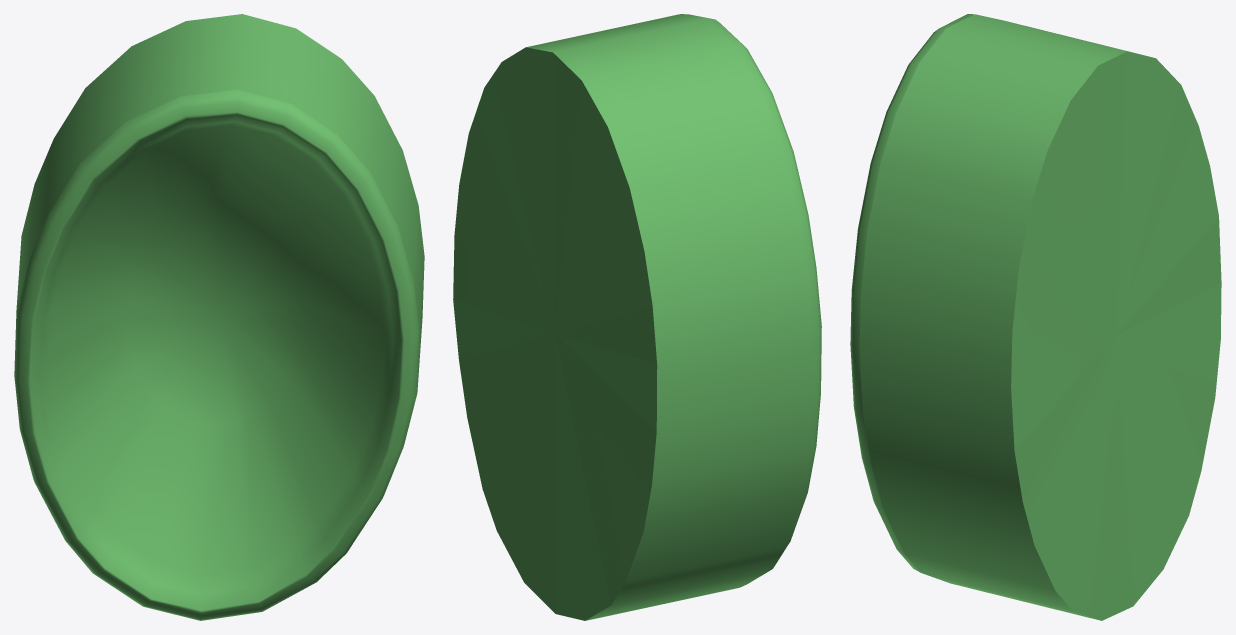
The model's file is TL2_8shapes_Oval_Classic_Metal.001 3.glb.
3 views of the same model, side by side, from view 1: azimuth 30°, elevation 25°; view 2: azimuth 150°, elevation 25°; view 3: azimuth 270°, elevation 25° (orthographic). The views are drawn at different scales.
Visible parts, largest first — view 1: TL2_8shapes_Oval_Classic_Metal.001; view 2: TL2_8shapes_Oval_Classic_Metal.001; view 3: TL2_8shapes_Oval_Classic_Metal.001.
Part boxes in pixels (left/top/right/bottom): TL2_8shapes_Oval_Classic_Metal.001: left=14, top=14, right=424, bottom=620; TL2_8shapes_Oval_Classic_Metal.001: left=453, top=14, right=821, bottom=620; TL2_8shapes_Oval_Classic_Metal.001: left=850, top=14, right=1221, bottom=620.
Size of the model in its own units: 0.5182 by 0.6943 by 0.4227.
